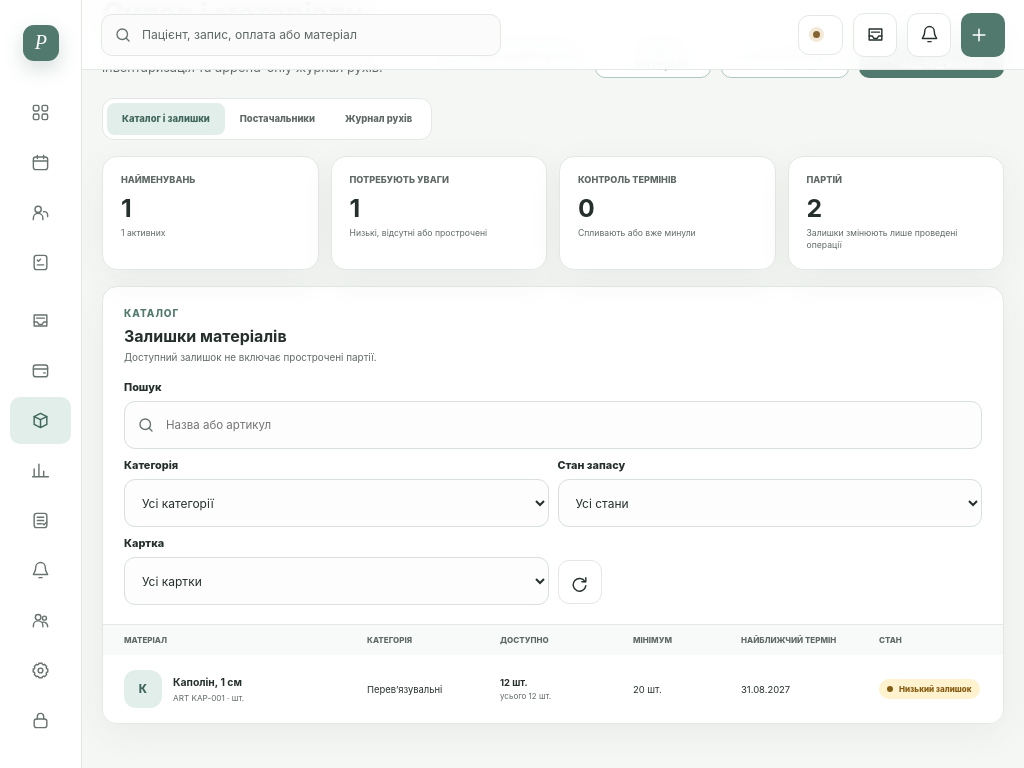
it: TP-501 inventory material and lot catalog › locks the unit field after the first lot while keeping other settings editable
(page scrolled)
Step 1. Click the button with aria-label "Відкрити Каполін, 1 см" → (143, 689), box x1=103 y1=655 x2=1023 y2=723
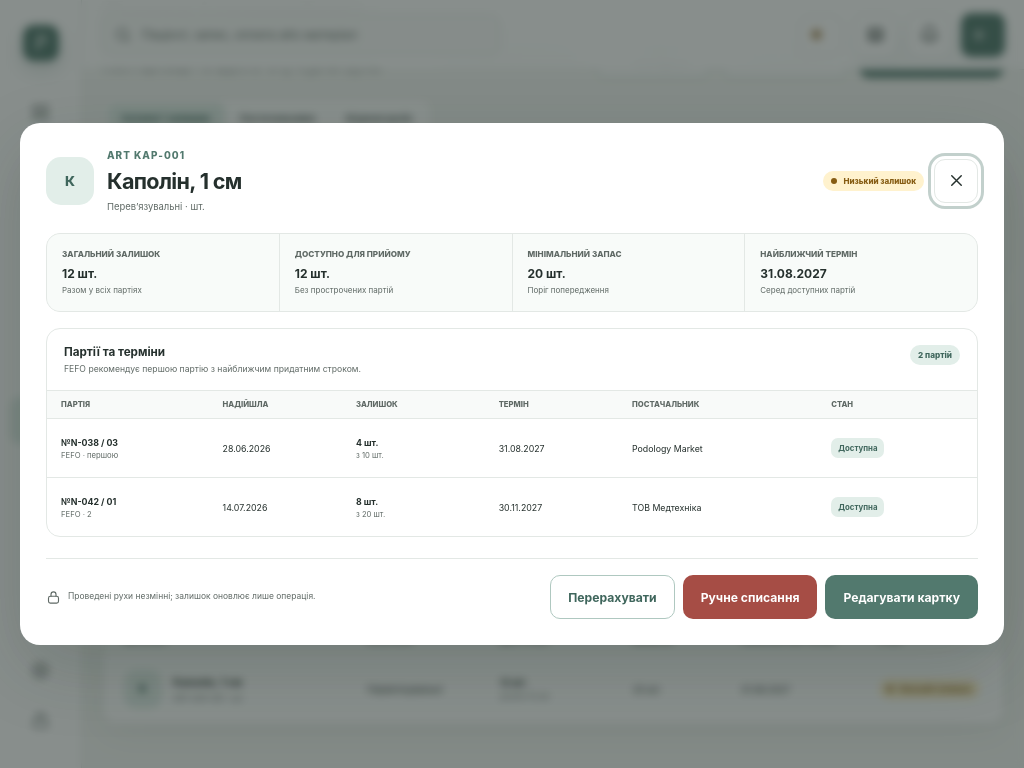
Step 2. Click the button "Редагувати картку" → (902, 597), box x1=826 y1=575 x2=978 y2=619
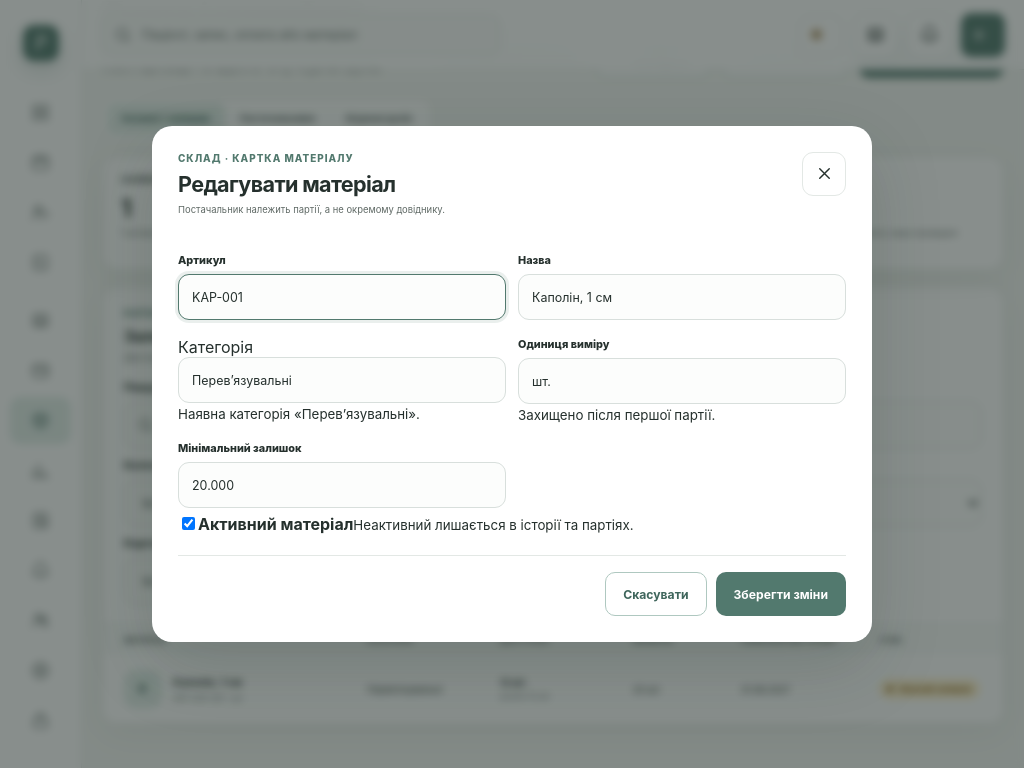
Check: the field labelled "Одиниця виміру Захищено після першої партії." is disabled, box x1=518 y1=358 x2=846 y2=404
Check: the text "Захищено після першої партії." is shown, box x1=518 y1=407 x2=715 y2=423
Check: the number field labelled "Мінімальний залишок" is enabled, box x1=178 y1=462 x2=506 y2=508
